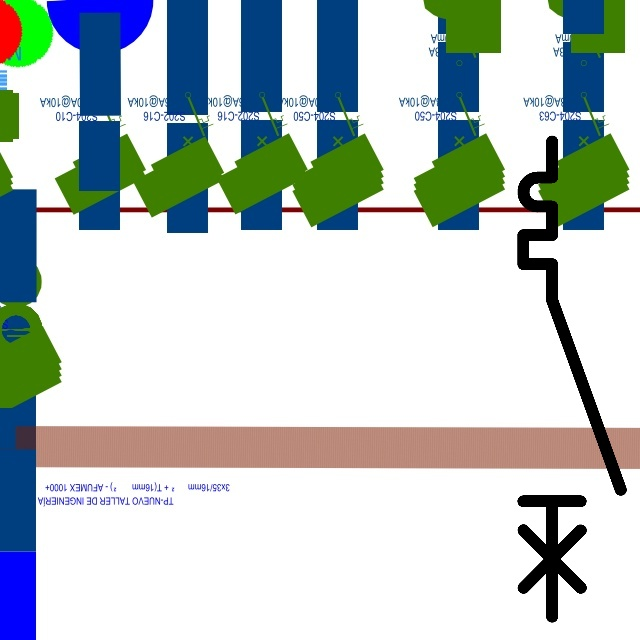interruptor_termomagnetico: (511, 129, 633, 629)
